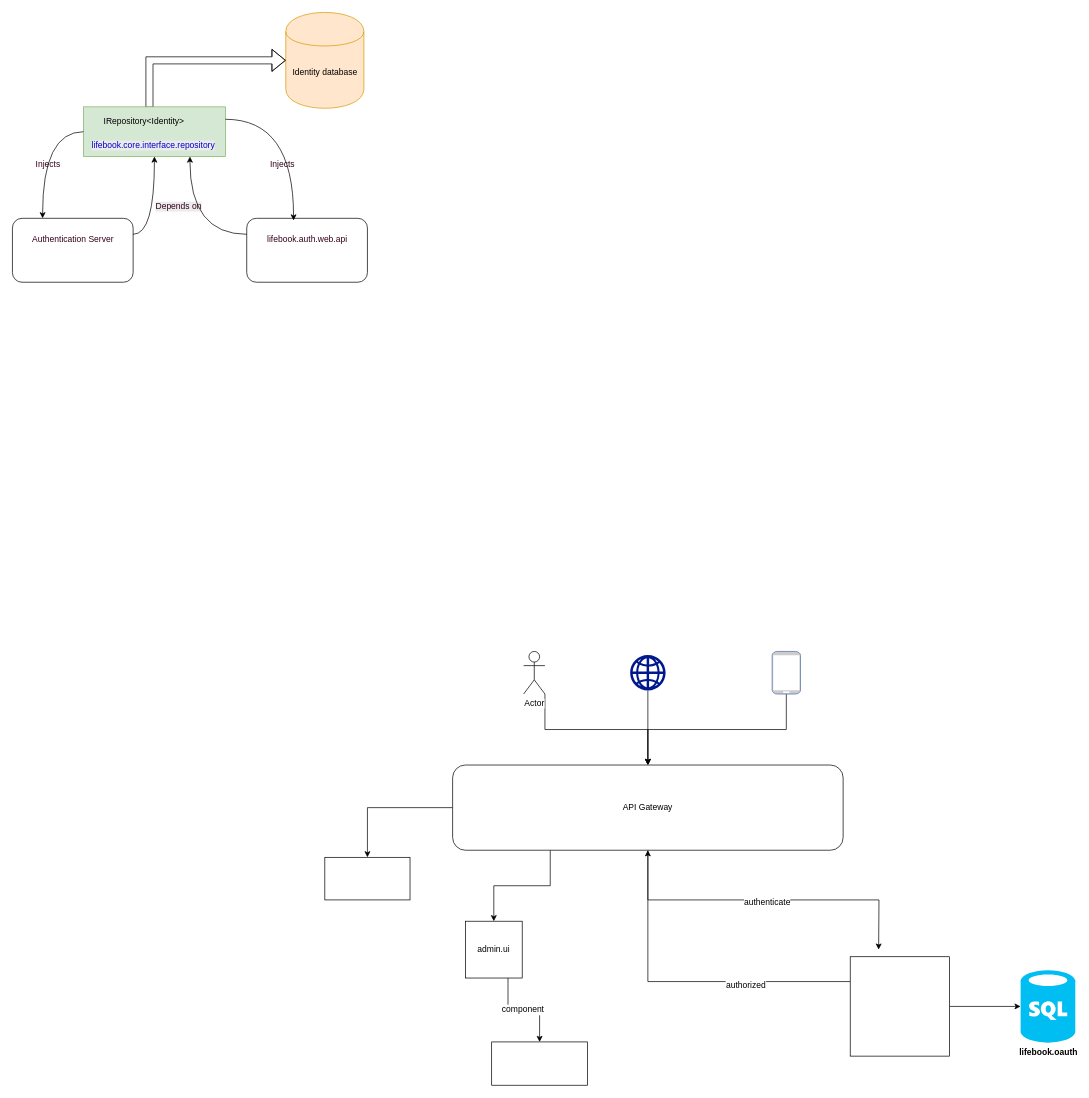
The diagram is 1089 pixels wide and 1098 high, and some of its shapes have lost their labels. Each missing label, with the centre of its shape:
authentication server lifebook.auth: point 900,1006
Calenadar lifebook.app.calendar: point 367,878
identity: point 539,1063
